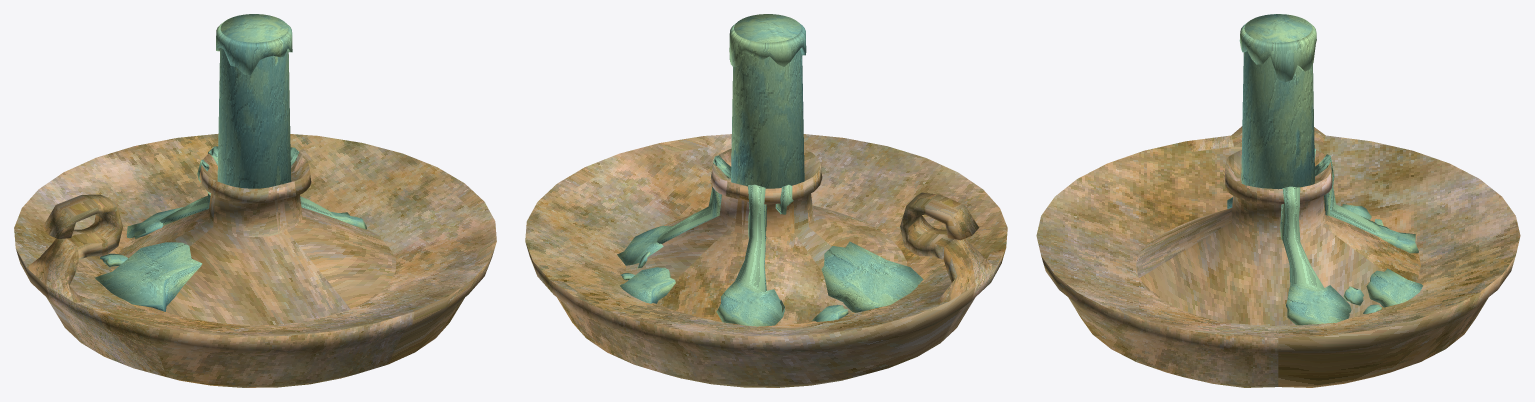
File: candle_holder.glb
3 views of the same model, side by side, from view 1: azimuth 30°, elevation 25°; view 2: azimuth 150°, elevation 25°; view 3: azimuth 270°, elevation 25° (orthographic).
Visible parts, largest first — view 1: candle_holder; view 2: candle_holder; view 3: candle_holder.
Boxes of the visible parts, <box> form: candle_holder: <box>14,14,496,387</box>; candle_holder: <box>525,14,1007,387</box>; candle_holder: <box>1036,14,1520,387</box>.
Bounding box in the file's own units: 0.7781 × 0.5326 × 0.7781.
10 materials, 10 textured.
